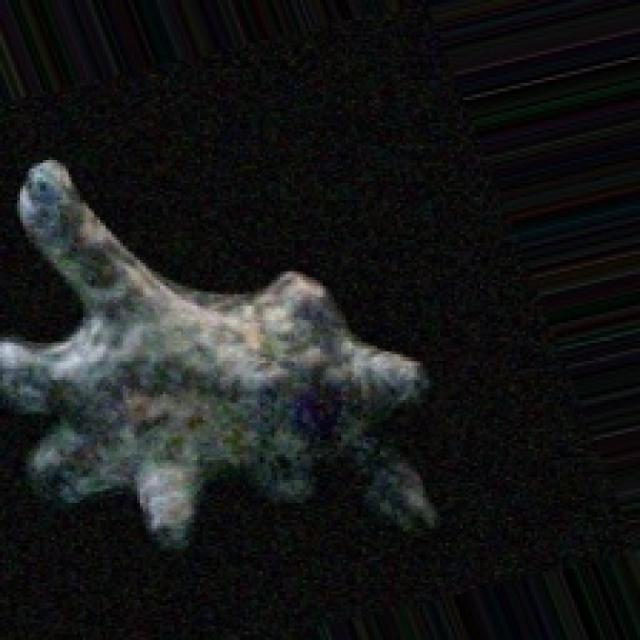Amoeba: (0, 154, 443, 552)
